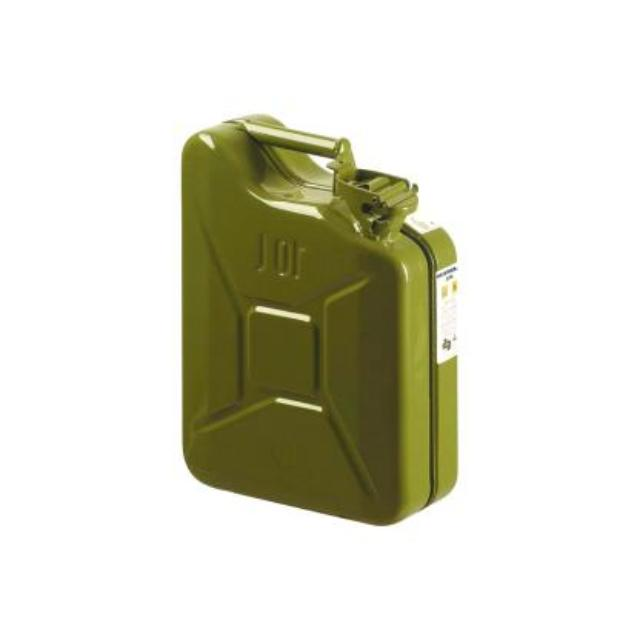chemical_plastic_gallon: (177, 110, 466, 530)
